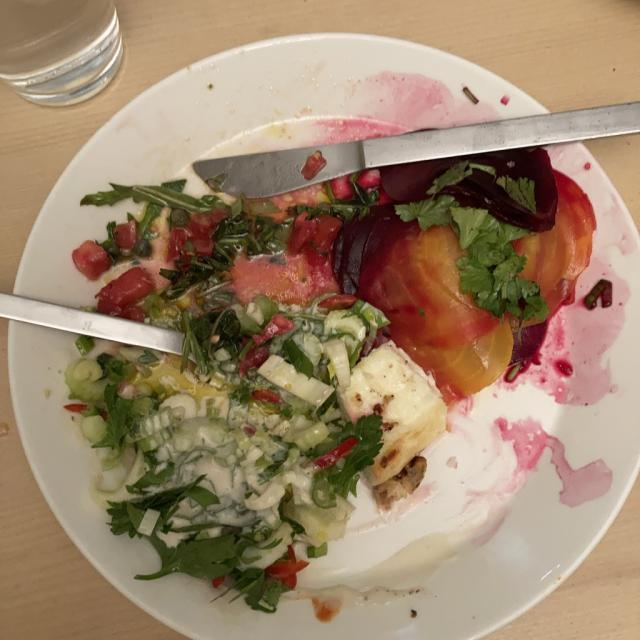beetroot-steamed-without-addition-of-salt: (340, 172, 585, 388)
celery: (119, 313, 372, 545)
french-salad-dressing: (132, 388, 548, 572)
tomato-raw: (74, 207, 342, 314)
